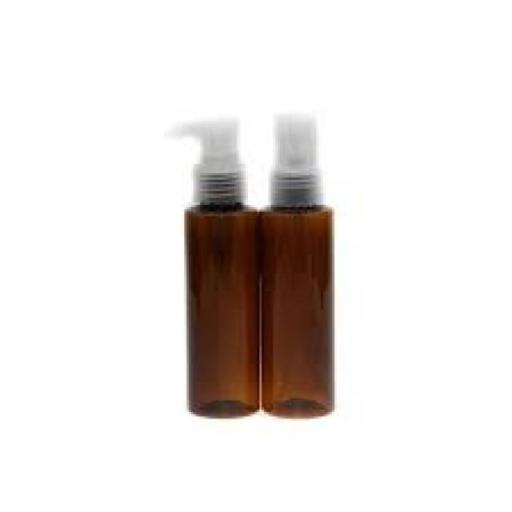glass: (252, 179, 356, 439), (168, 164, 266, 432)
